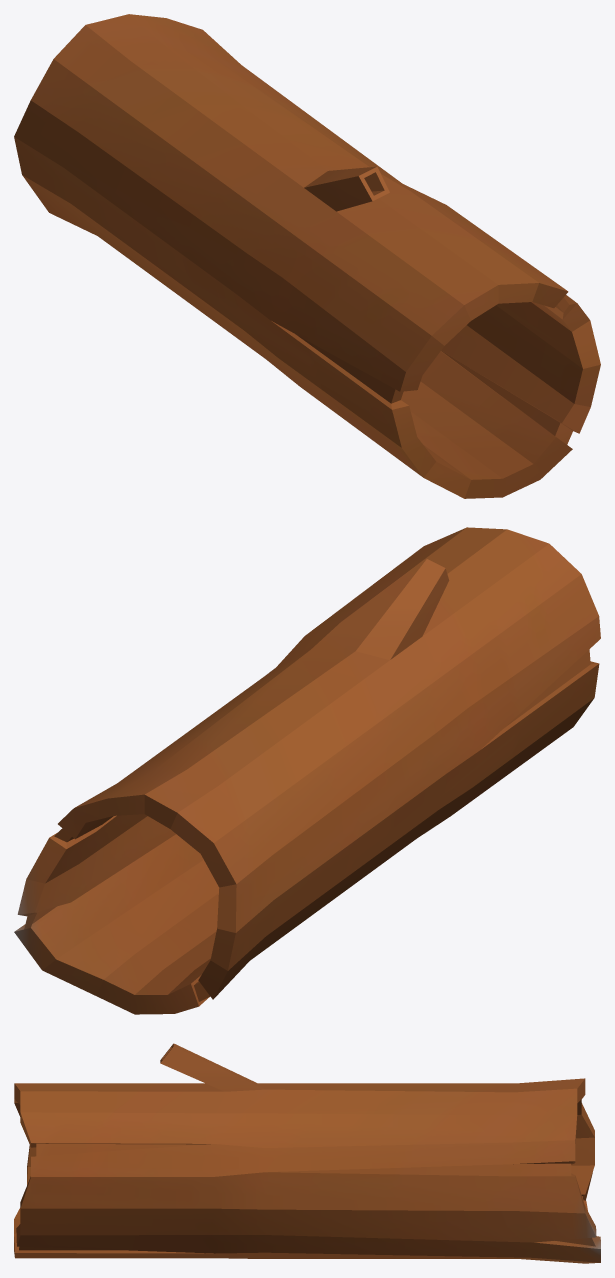
Rendered from hollowLog.glb.
3 views of the same model, one above another, from view 1: azimuth 30°, elevation 25°; view 2: azimuth 150°, elevation 25°; view 3: azimuth 270°, elevation 25° (orthographic). The views are drawn at different scales.
Visible parts, largest first — view 1: hollowLog; view 2: hollowLog; view 3: hollowLog.
Boxes of the visible parts, box(x1,y1,x2,y2) form: hollowLog: box(14, 14, 600, 498); hollowLog: box(14, 527, 600, 1014); hollowLog: box(14, 1043, 600, 1263).
Size of the model in its own units: 1.31 by 1.5 by 3.99.
Materials: 1 (1 with a texture image).
